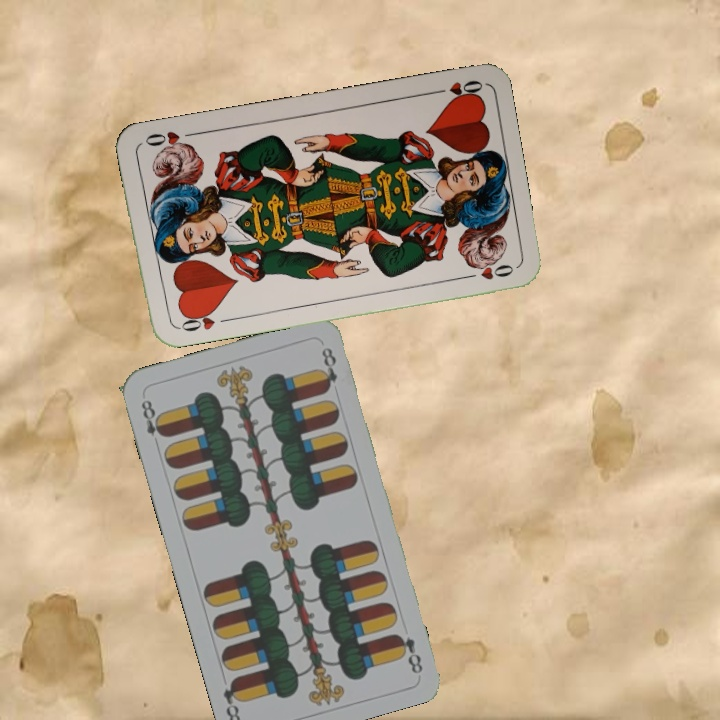E8: (136, 395, 169, 451), (391, 629, 426, 676)
HO: (171, 305, 231, 334), (426, 76, 485, 104)
